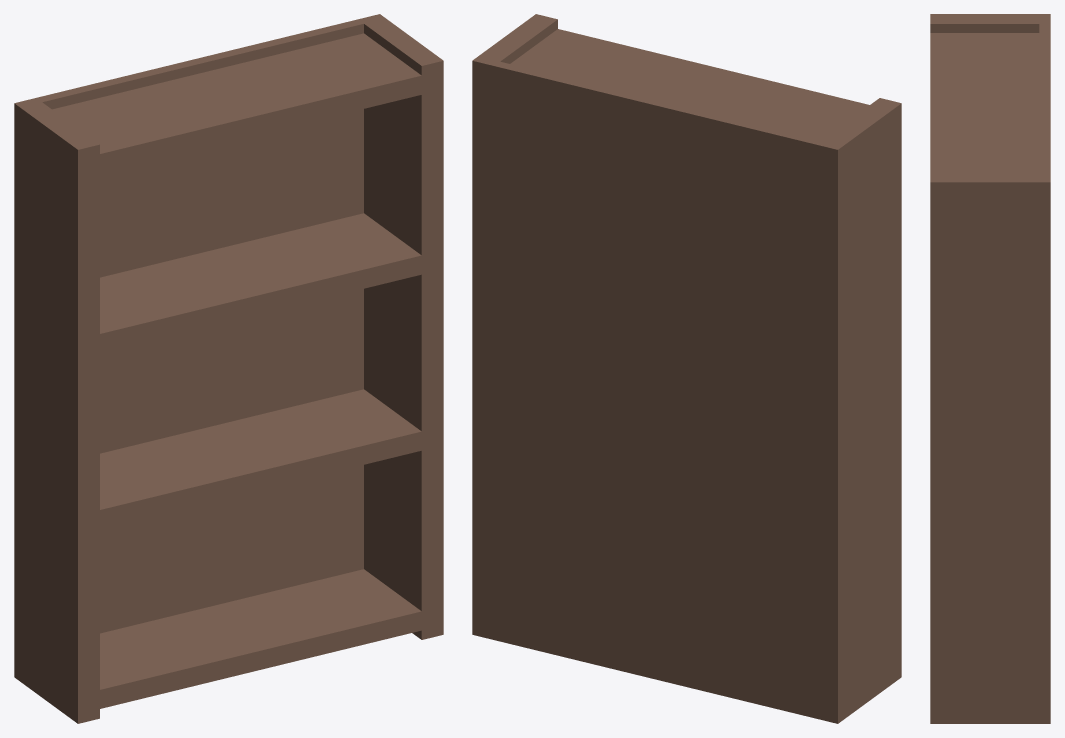
File: Bookshelf_Empty.fbx
3 renders of one model, left to right at view 1: azimuth 30°, elevation 25°; view 2: azimuth 150°, elevation 25°; view 3: azimuth 270°, elevation 25°, orthographic. The views are drawn at different scales.
Parts seen in each view (by area): view 1: Shelf_Back, Shelf_Left, Shelf_Right, Shelf_Board_1.45, Shelf_Board_0.52, Shelf_Board_0.98, Shelf_Board_0.05; view 2: Shelf_Back, Shelf_Left, Shelf_Board_1.45, Shelf_Right, Shelf_Board_0.05, Shelf_Board_0.98; view 3: Shelf_Right, Shelf_Board_1.45, Shelf_Back, Shelf_Left, Shelf_Board_0.98, Shelf_Board_0.52.
Part boxes in pixels (x1,y1,x2,y2): Shelf_Back: (14,14,382,680); Shelf_Left: (17,102,99,723); Shelf_Right: (362,16,443,639); Shelf_Board_1.45: (17,33,443,178); Shelf_Board_0.52: (17,389,443,534); Shelf_Board_0.98: (17,213,421,358); Shelf_Board_0.05: (17,569,443,713); Shelf_Back: (472,56,843,723); Shelf_Left: (820,98,901,720); Shelf_Board_1.45: (510,29,901,172); Shelf_Right: (478,14,557,63); Shelf_Board_0.05: (841,649,901,711); Shelf_Board_0.98: (841,293,901,354); Shelf_Right: (930,172,1044,723); Shelf_Board_1.45: (930,33,1043,209); Shelf_Back: (1039,14,1050,723); Shelf_Left: (930,14,1043,32); Shelf_Board_0.98: (930,361,1044,378); Shelf_Board_0.52: (930,527,1039,545).
Size of the model in its own units: 100 by 150 by 30.22.
